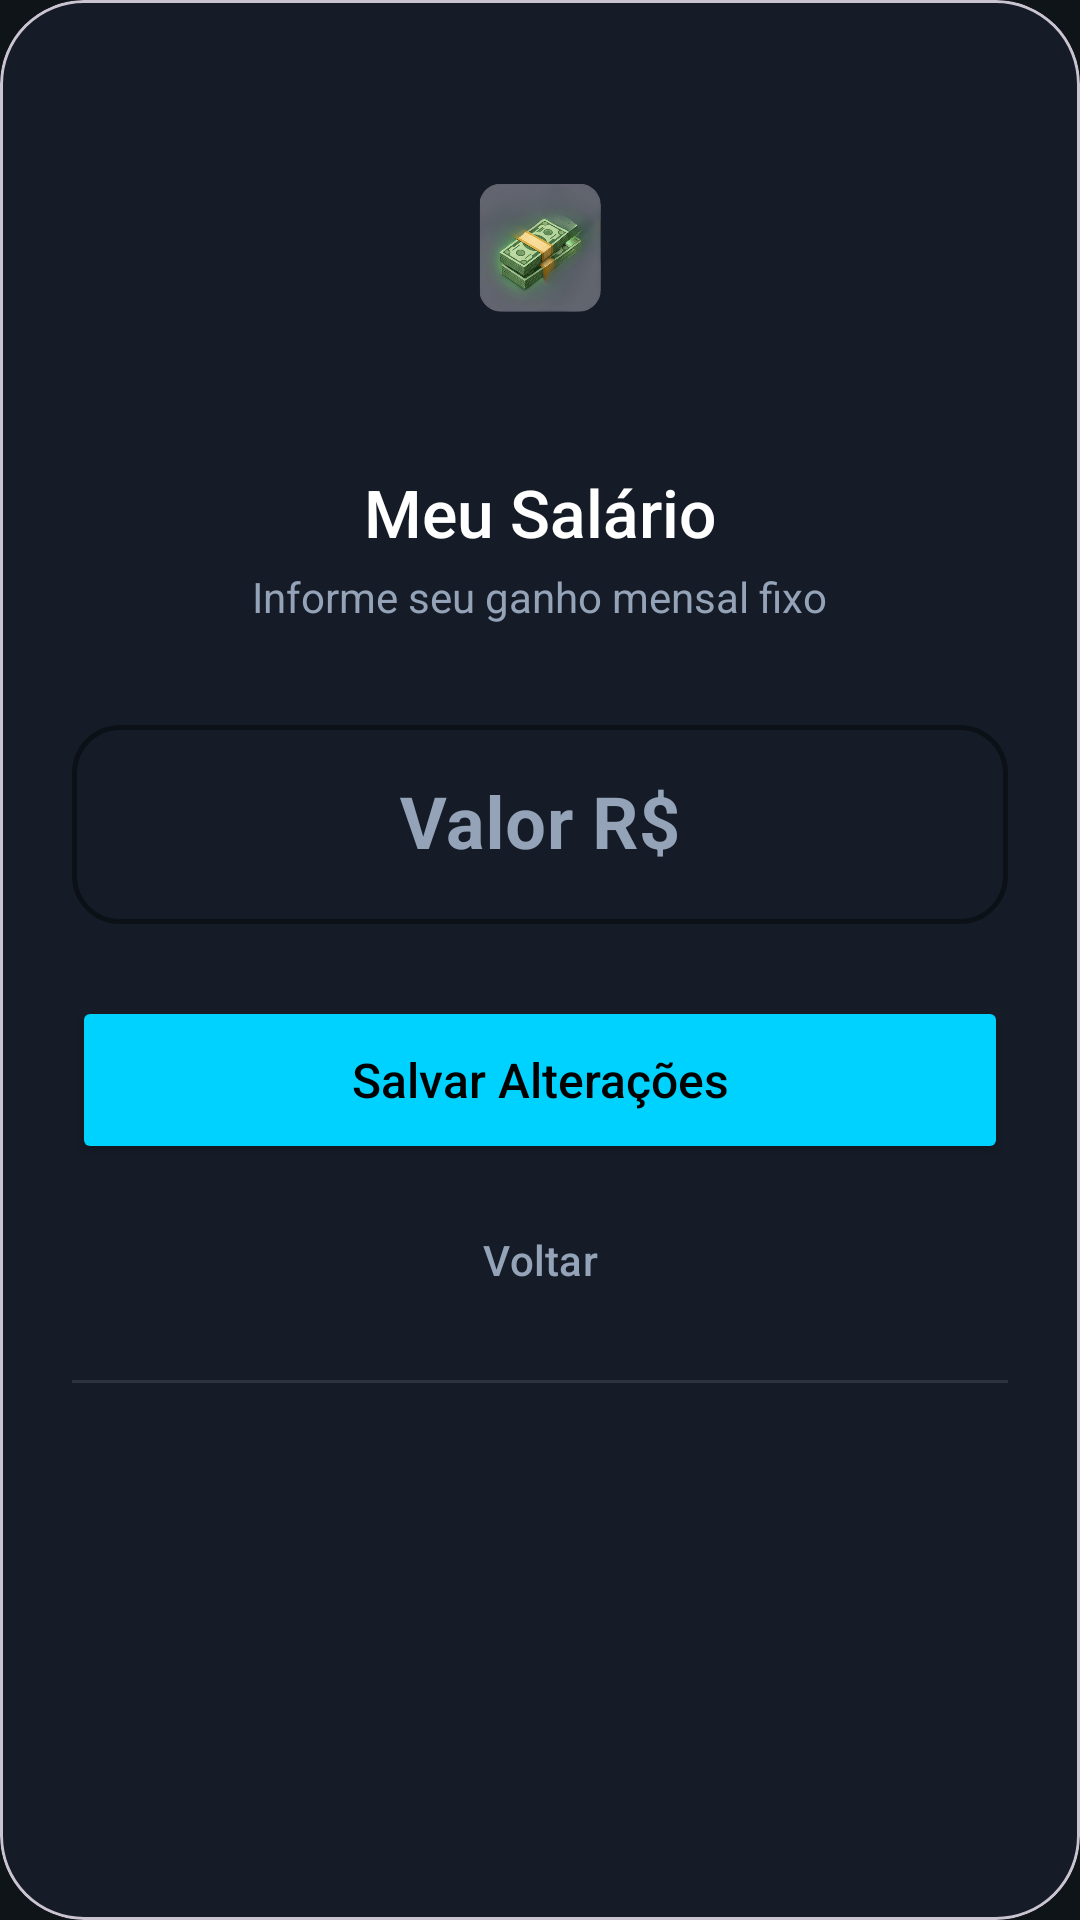

Icons on this 1080px×1920px Android screen, each with the point to tap as (x,y):
salario: (540,248)
